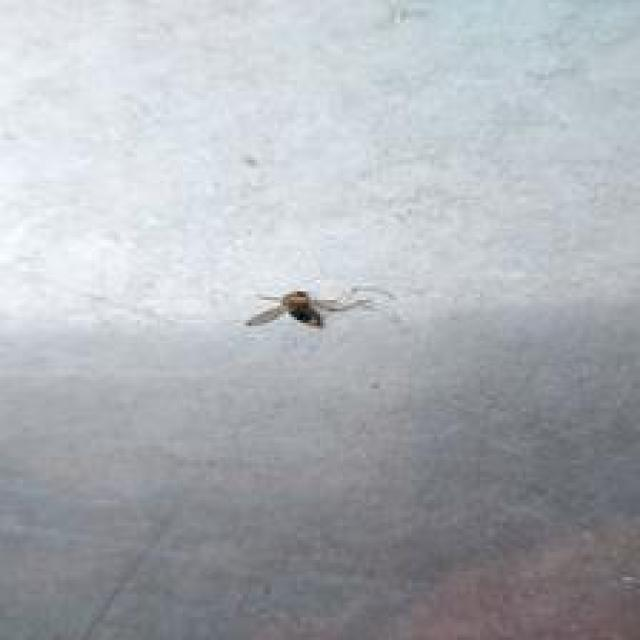Culex: (243, 283, 394, 331)
